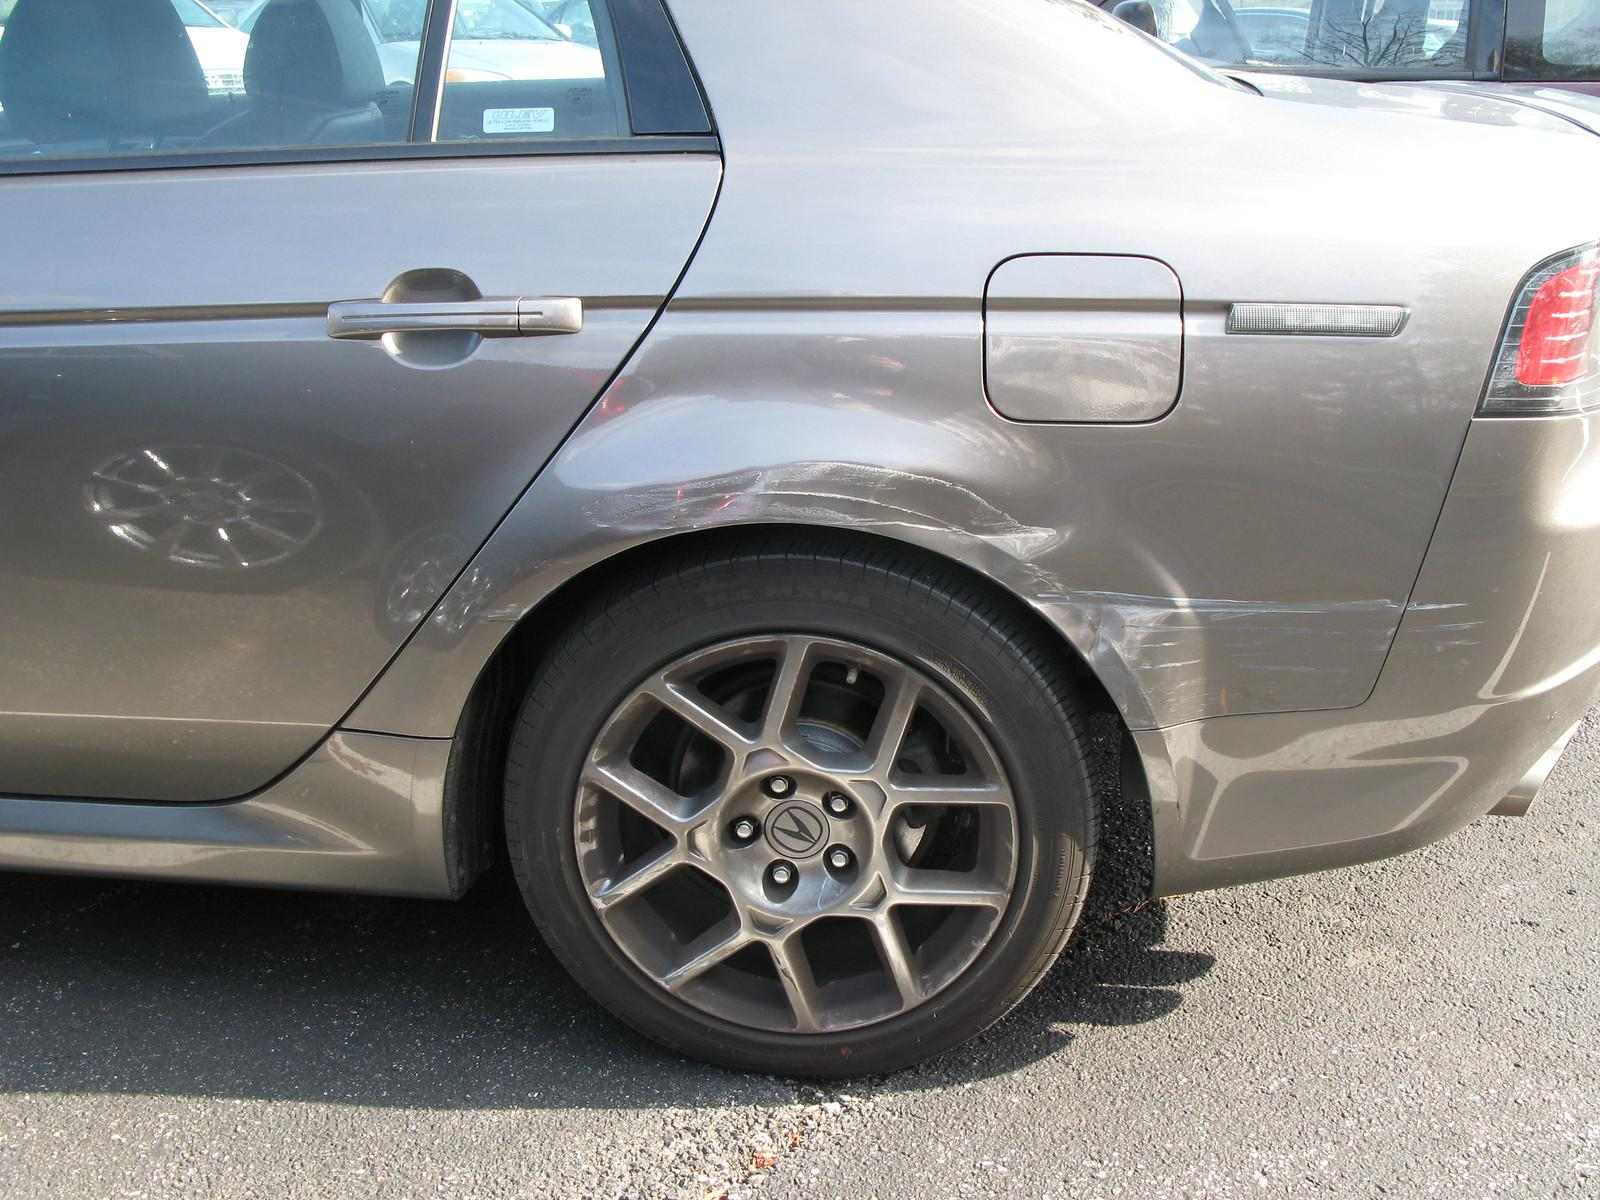quaterpanel-dent: (675, 153, 1484, 850)
